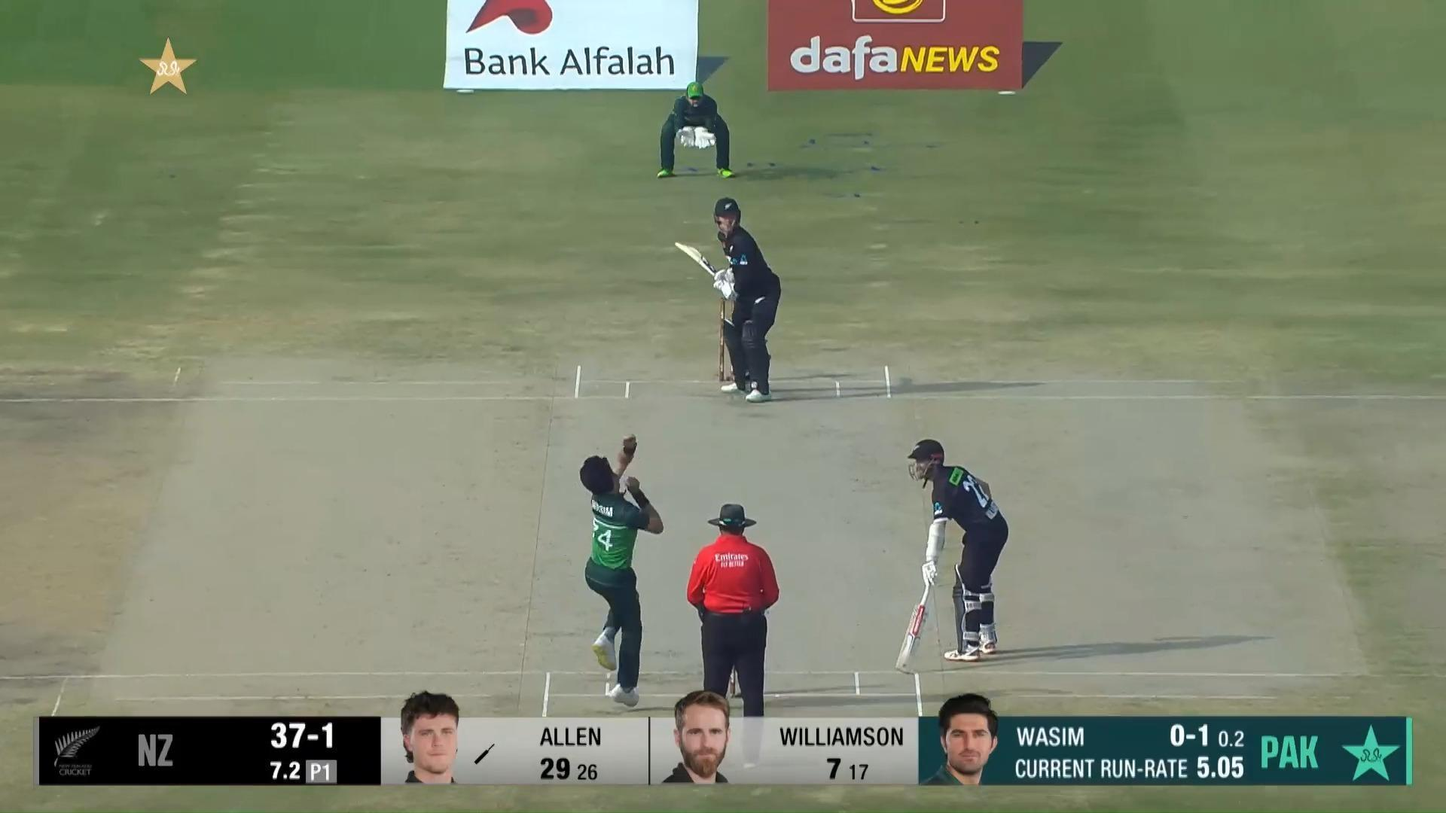BM 1: (675, 198, 782, 403)
BO: (578, 434, 663, 707)
